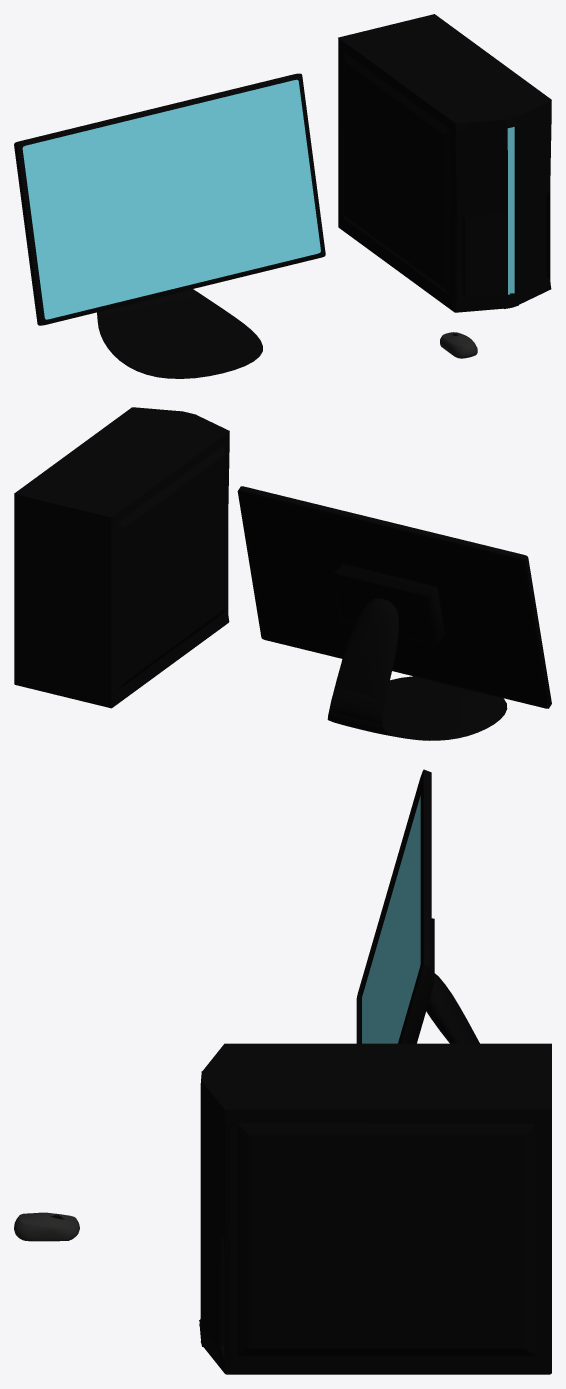
Rendered from 3dmodel648ac197ac12eOrdenador.glb.
The picture shows the model from 3 angles, top to bottom: view 1: azimuth 30°, elevation 25°; view 2: azimuth 150°, elevation 25°; view 3: azimuth 270°, elevation 25°; orthographic projection. The views are drawn at different scales.
Visible parts, largest first — view 1: Monitor Ordenador, Caja ordenador, Soporte ordenador, Raton; view 2: Caja ordenador, Monitor Ordenador, Soporte ordenador; view 3: Caja ordenador, Monitor Ordenador, Soporte ordenador, Raton.
Boxes of the visible parts, x1,y1,x2,y2 form: Monitor Ordenador: [14, 73, 325, 325]; Caja ordenador: [338, 14, 551, 312]; Soporte ordenador: [97, 289, 262, 378]; Raton: [440, 332, 477, 358]; Caja ordenador: [14, 407, 229, 708]; Monitor Ordenador: [237, 486, 551, 708]; Soporte ordenador: [327, 598, 507, 740]; Caja ordenador: [199, 1043, 551, 1374]; Monitor Ordenador: [356, 769, 434, 1043]; Soporte ordenador: [426, 973, 479, 1043]; Raton: [14, 1212, 79, 1241].
Bounding box in the file's own units: 5.7 × 2.5 × 4.07.
